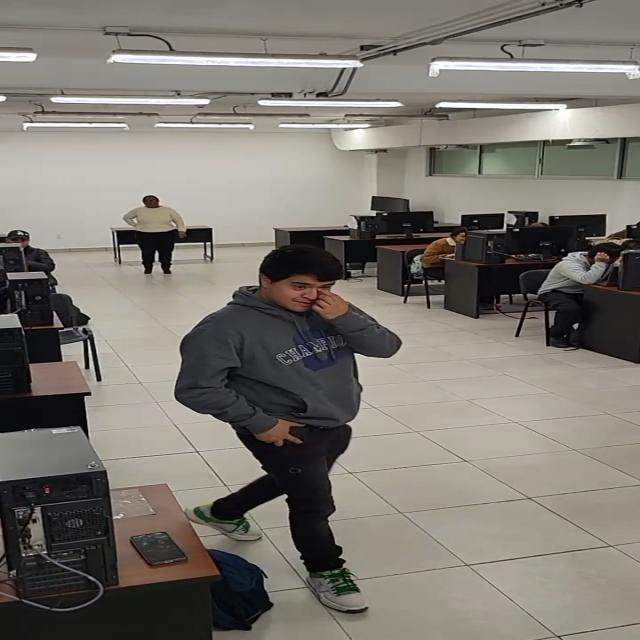Persona: (174, 243, 406, 618), (119, 192, 190, 279)
